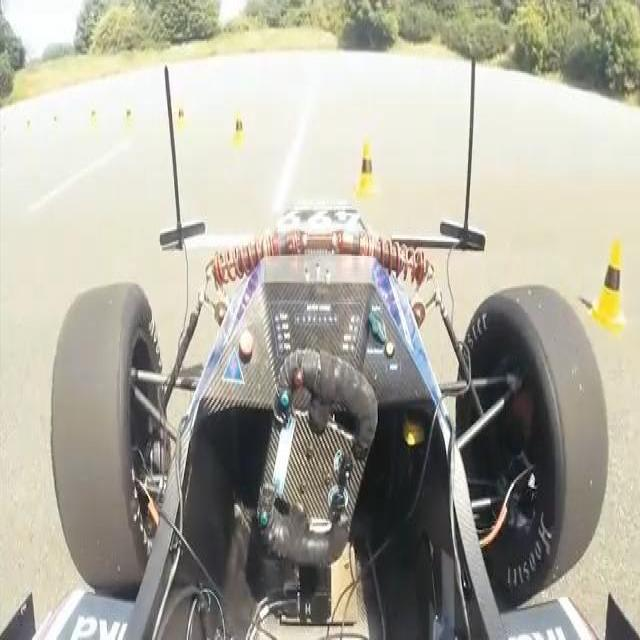yellow_cone: (590, 231, 631, 338), (354, 137, 380, 214), (231, 105, 249, 160)
